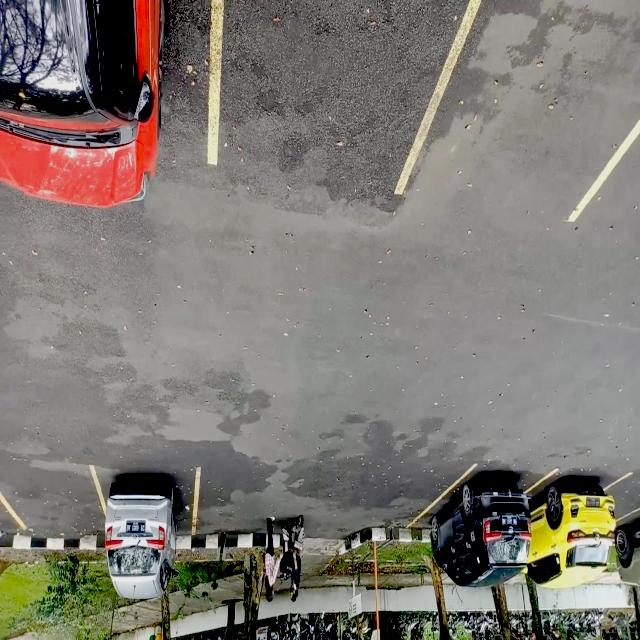empty: (206, 0, 452, 191), (440, 0, 640, 221)
occupied: (0, 4, 198, 222), (432, 465, 536, 583), (108, 473, 196, 569)
